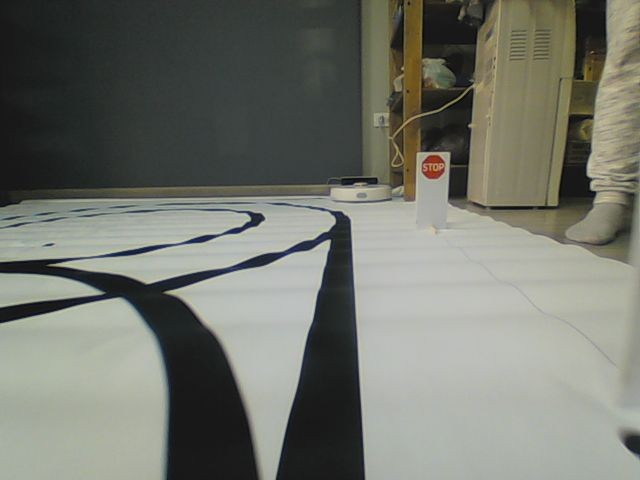Stop: (419, 154, 447, 181)
